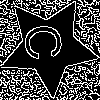C: (23, 21, 72, 62)
